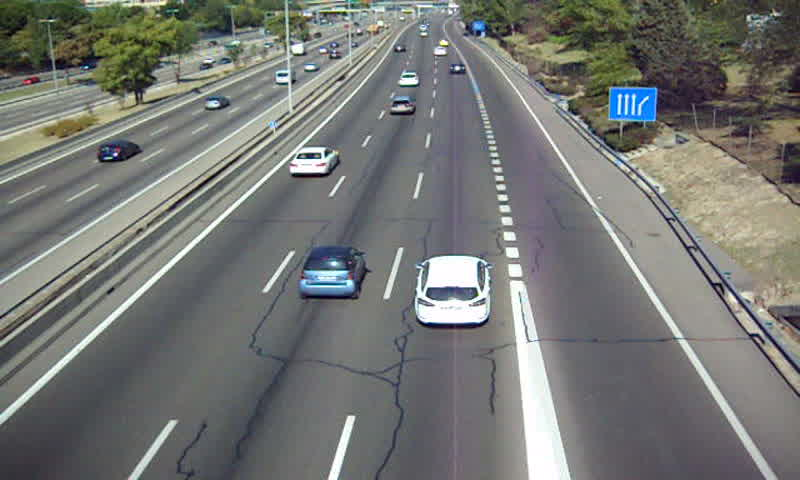car: (414, 255, 494, 325), (299, 245, 368, 297), (287, 146, 340, 178), (391, 96, 416, 114), (397, 72, 420, 88), (449, 62, 466, 74)
